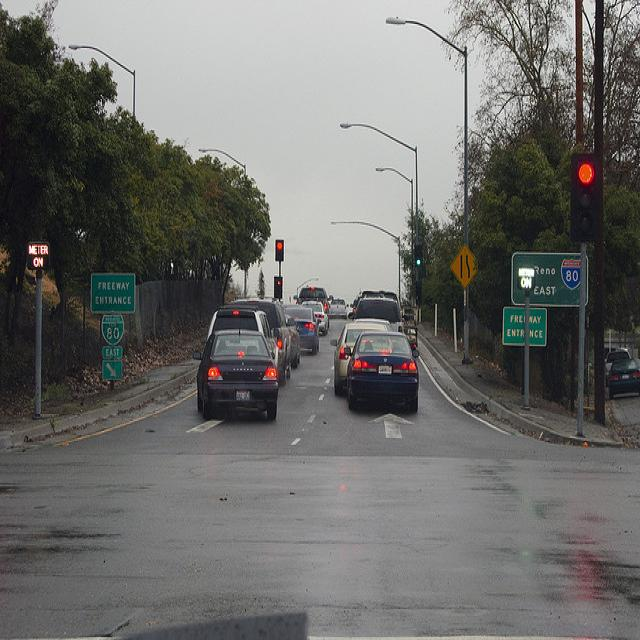Vehicle: (193, 332, 277, 420), (344, 330, 420, 413), (208, 305, 285, 382), (228, 298, 293, 379), (329, 322, 394, 396), (348, 296, 406, 332), (284, 307, 319, 354), (302, 301, 329, 336), (285, 316, 301, 369), (292, 288, 328, 310), (329, 298, 347, 320)
